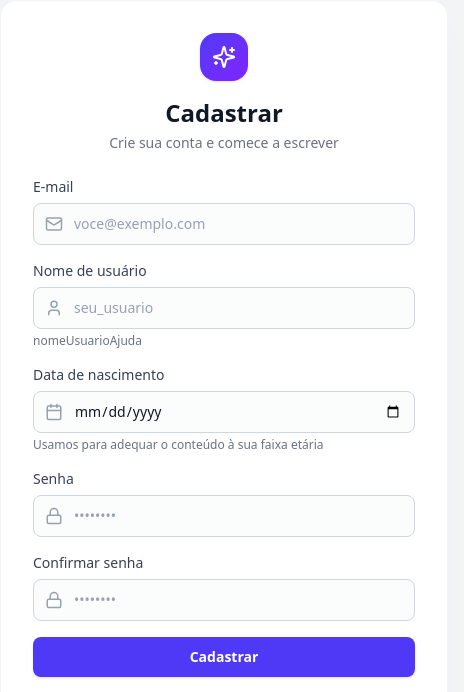
Página de Cadastro › exibe erro quando cadastro falha
The image size is (464, 692).
Type "a@b.com" into the field labelled "E-mail" at point(224, 224), box [33,203,415,245]
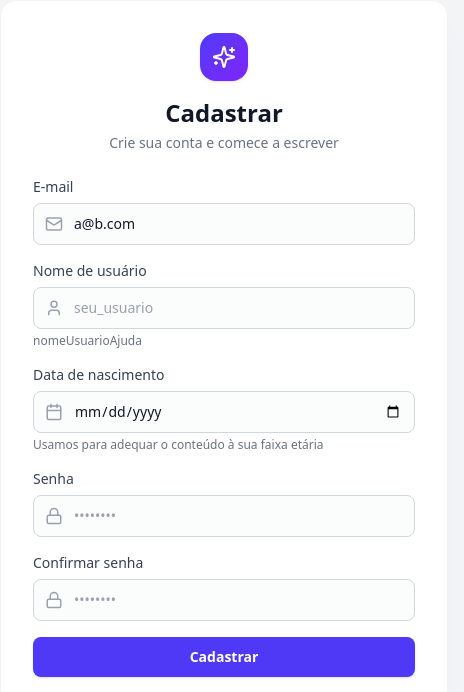
Type "user1" into the field labelled "Nome de usuário" at point(224, 308), box [33,287,415,329]
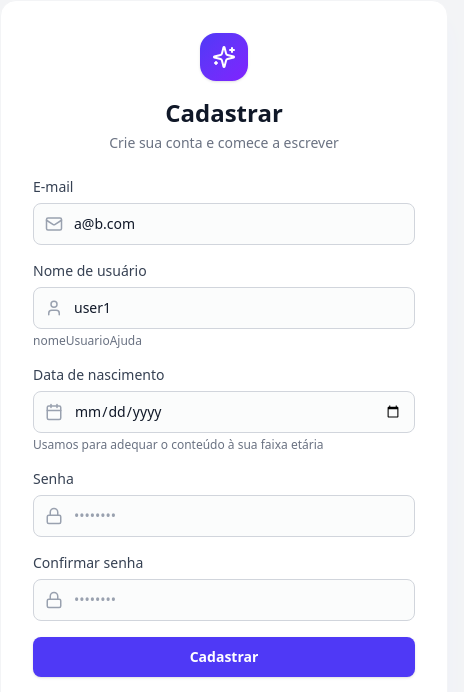
Type "2000-01-01" into the date field labelled "Data de nascimento" at point(224, 412), box [33,391,415,433]
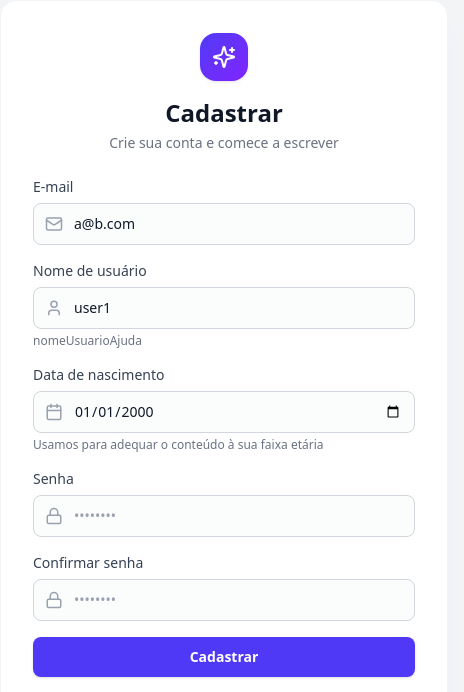
Type "123456" into the password field labelled "Senha" at point(224, 516), box [33,495,415,537]
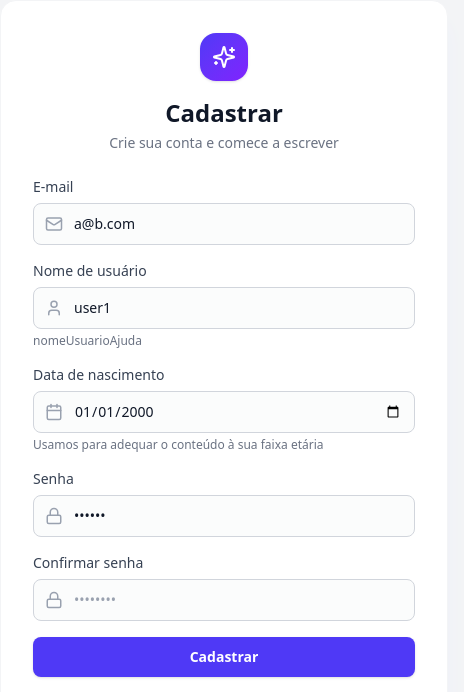
Type "123456" into the password field labelled "Confirmar senha" at point(224, 600), box [33,579,415,621]
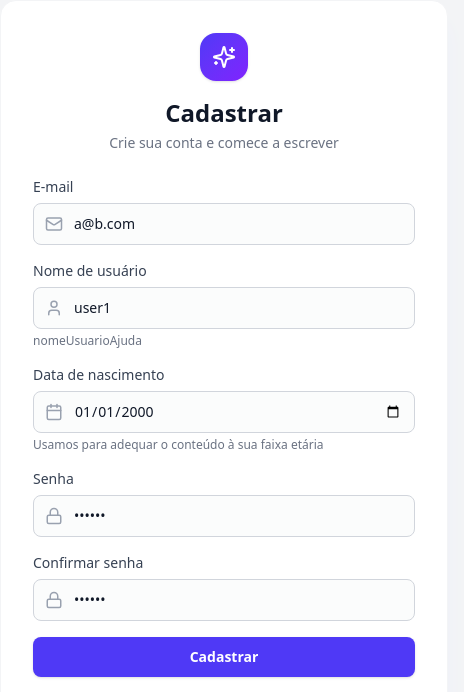
Click the button "Cadastrar" at point(224, 657), box [33,637,415,677]
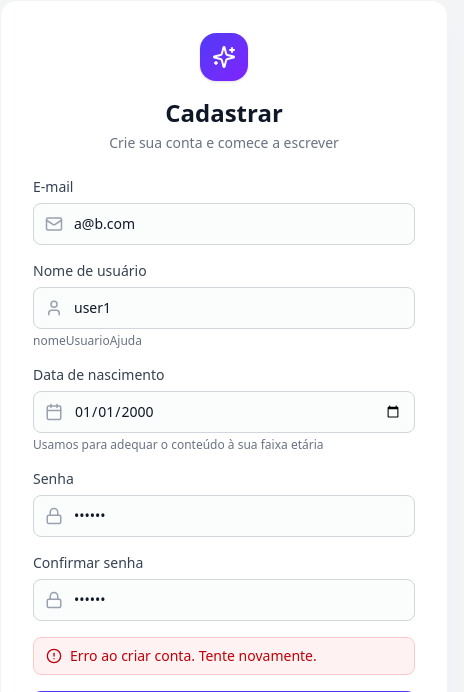
expect the text "Erro ao criar conta. Tente novamente." is shown: met, box [70,646,317,666]
